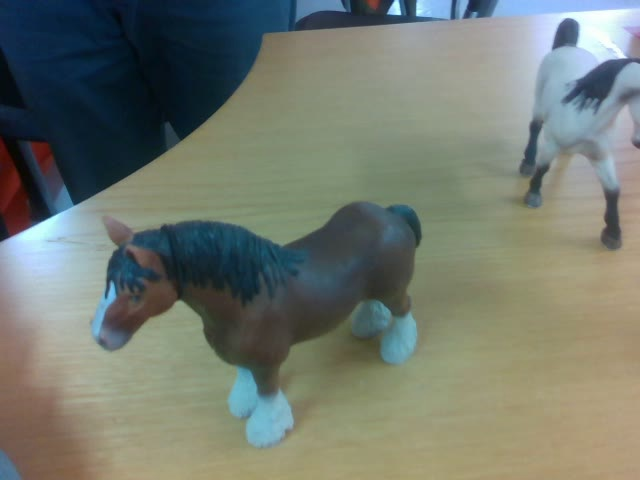toy: (92, 202, 422, 447)
